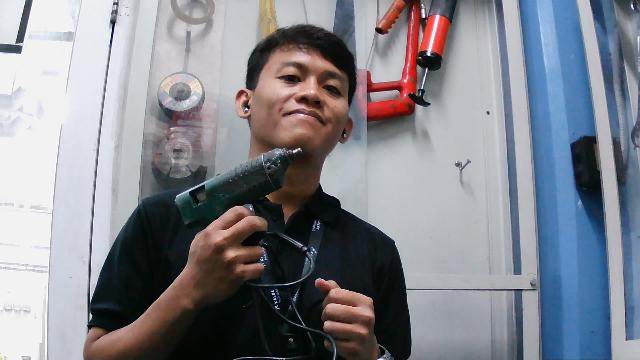gun_lem: (171, 142, 313, 246)
